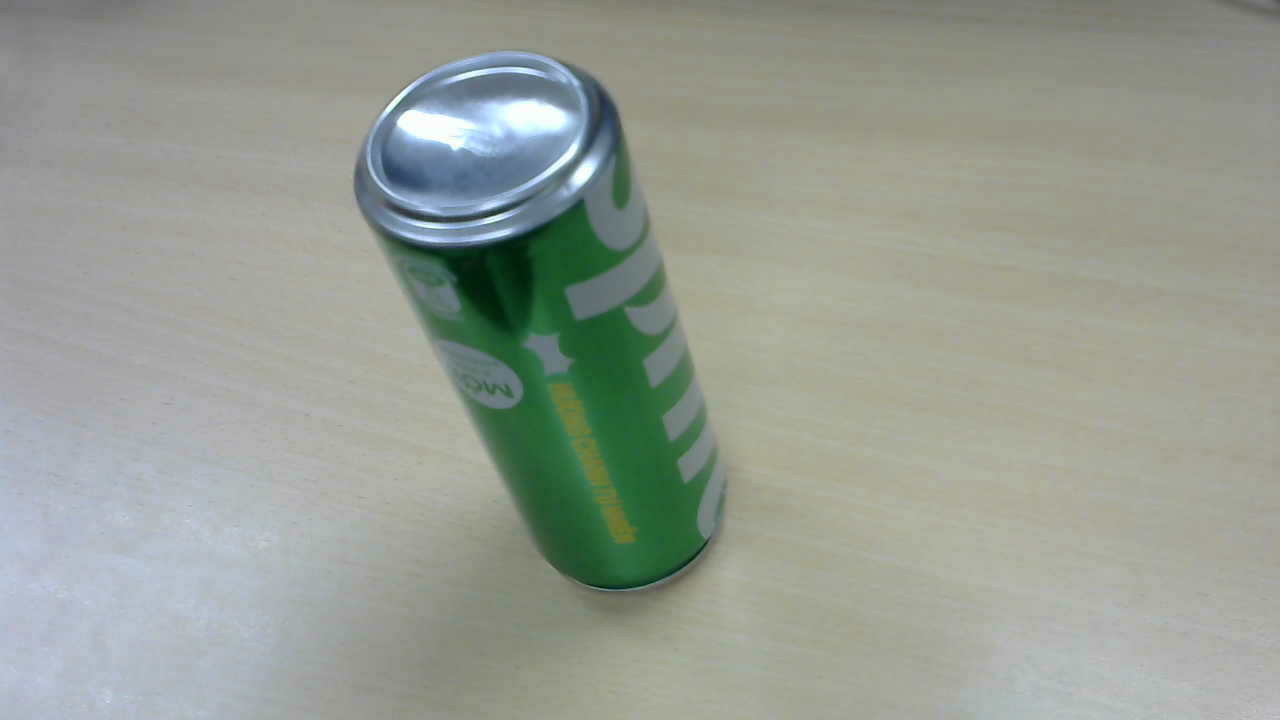Sprite: (372, 56, 724, 603)
